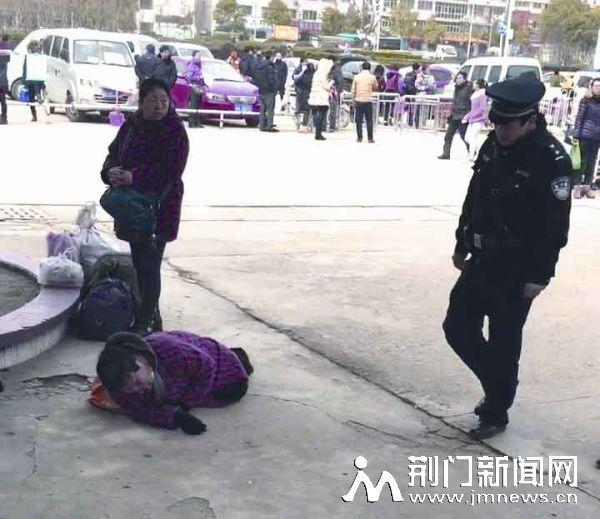10+: (12, 30, 600, 398)
down: (83, 313, 263, 441)
